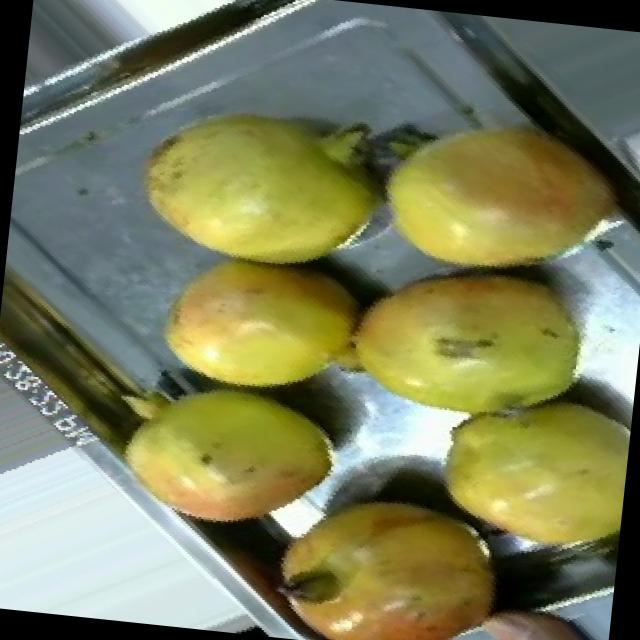fruit: (342, 68, 636, 306), (313, 231, 611, 463), (80, 349, 371, 566), (250, 457, 537, 640), (130, 229, 386, 422)
